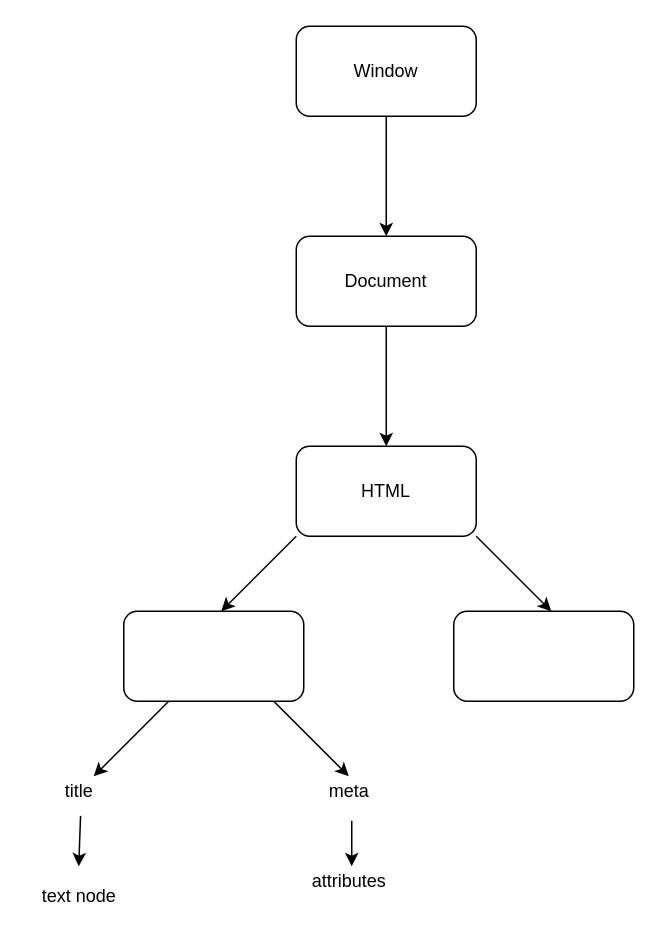
Image size: 660x945. Some labels were removed from this diagram. Here are the shapes that lost their labels. From the top down, the centre of each, then its label:
At (213,655): "HEAD".
At (543,655): "BODY".
